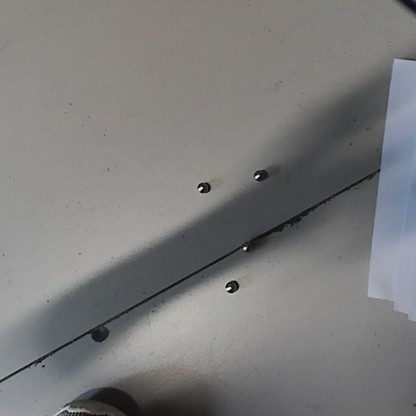ironball: (222, 274, 241, 296), (194, 178, 213, 196), (249, 166, 268, 184), (239, 238, 255, 254)
